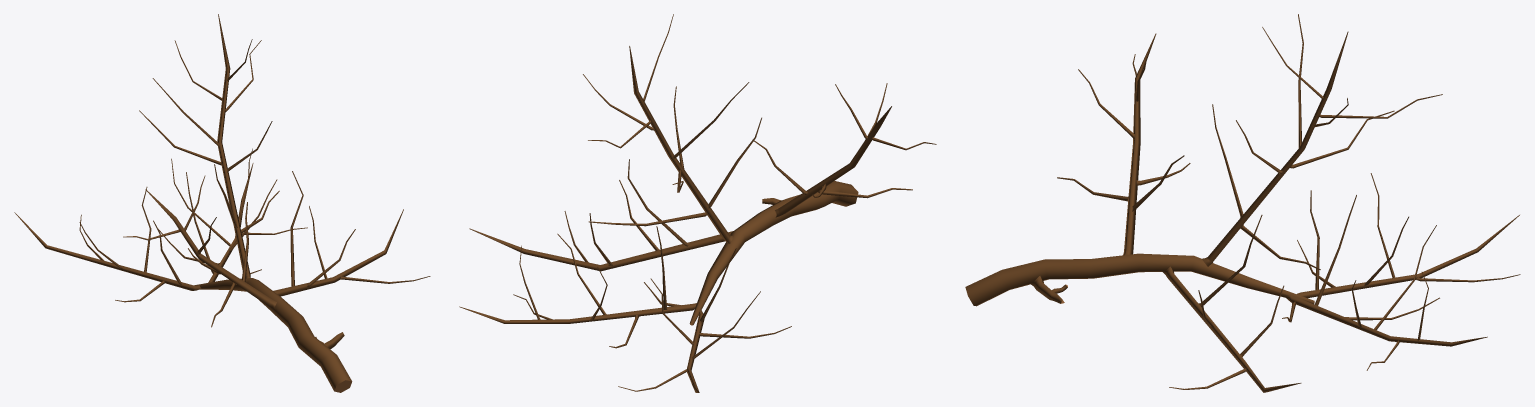
The model's file is Branch_3.glb.
3 renders of one model, left to right at view 1: azimuth 30°, elevation 25°; view 2: azimuth 150°, elevation 25°; view 3: azimuth 270°, elevation 25°, orthographic. The views are drawn at different scales.
Visible parts, largest first — view 1: Branch_3; view 2: Branch_3; view 3: Branch_3.
Part boxes in pixels (x1=…): Branch_3: x1=14, y1=14, x2=430, y2=392; Branch_3: x1=459, y1=14, x2=936, y2=392; Branch_3: x1=965, y1=14, x2=1520, y2=392.
Bounding box in the file's own units: 3.12 × 2.17 × 3.65.
1 material, 1 textured.
